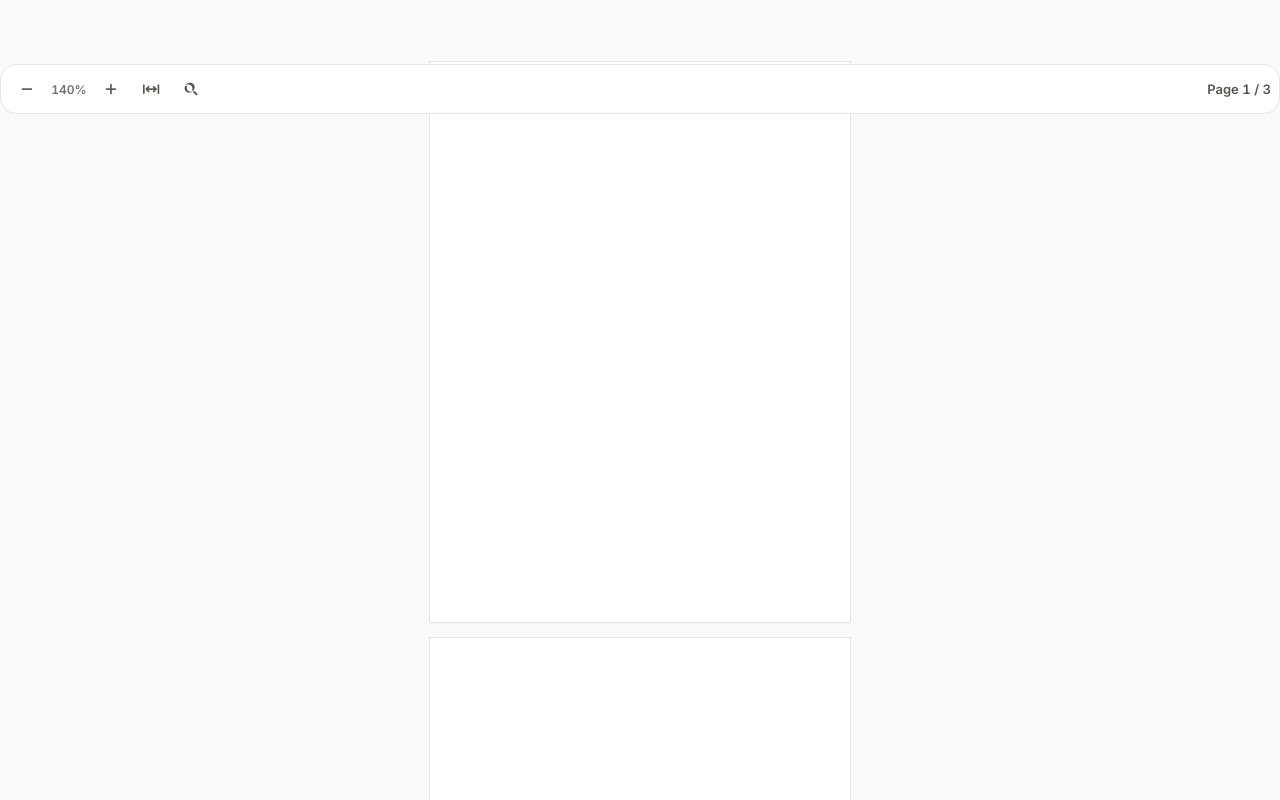
Test case: find in this paper (IR-353) › moves with the next and previous controls too
This screenshot has width=1280, height=800.
Expected: the text "Page 1 / 3" is shown, [1207,80,1271,98]
Click the button named "Find in this paper" at (191, 89), box [173,71,209,107]
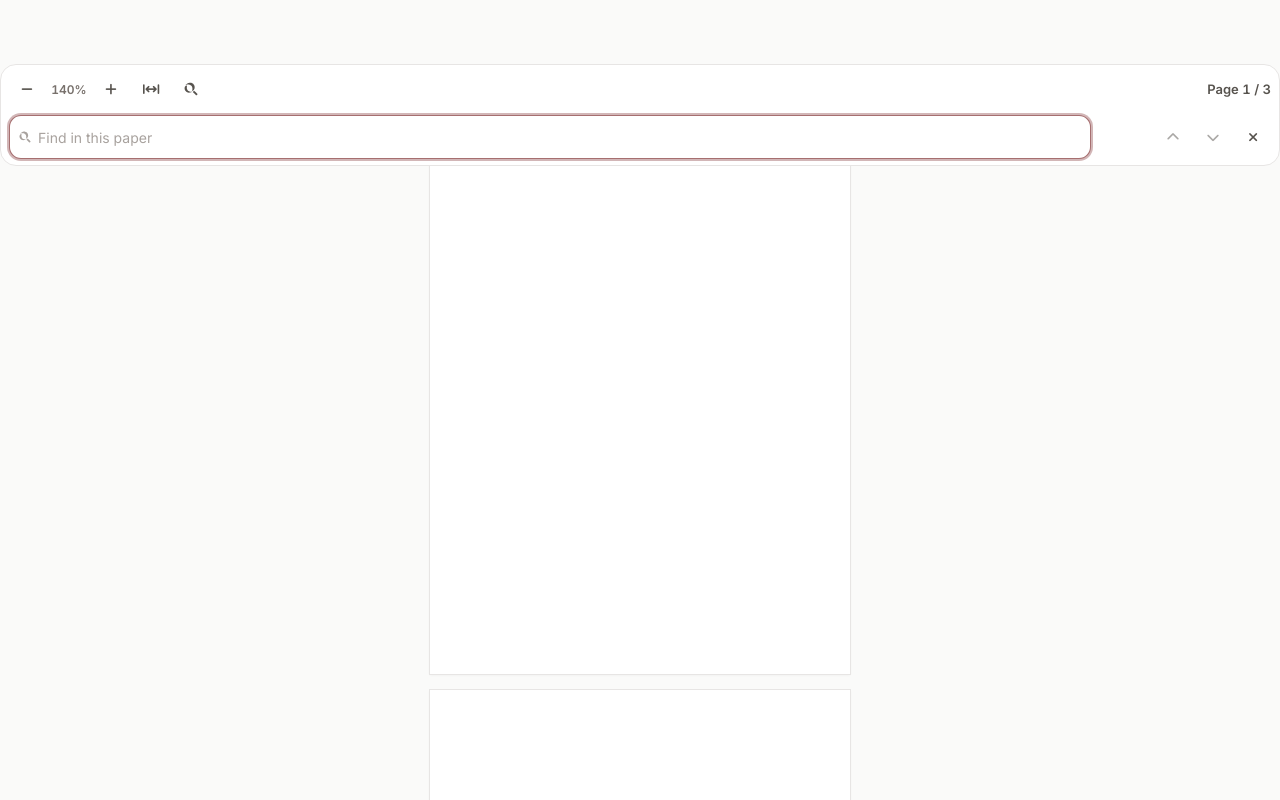
Type "robot" into the search field labelled "Find in this paper" at (550, 137), box [9,115,1091,159]
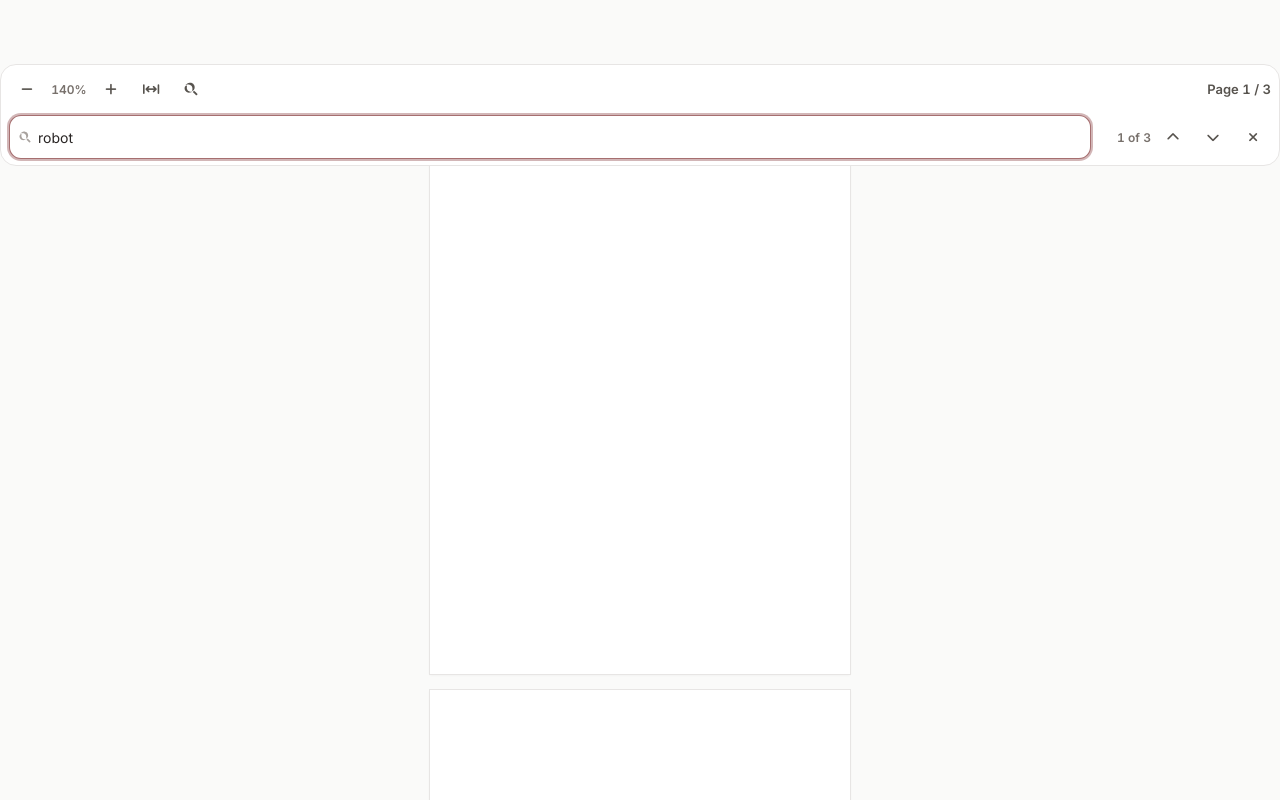
Result: the message reads "1 of 3" at [1117,130,1151,144]
Click the button named "Next match" at (1213, 137), box [1195,119,1231,155]
(page scrolled)
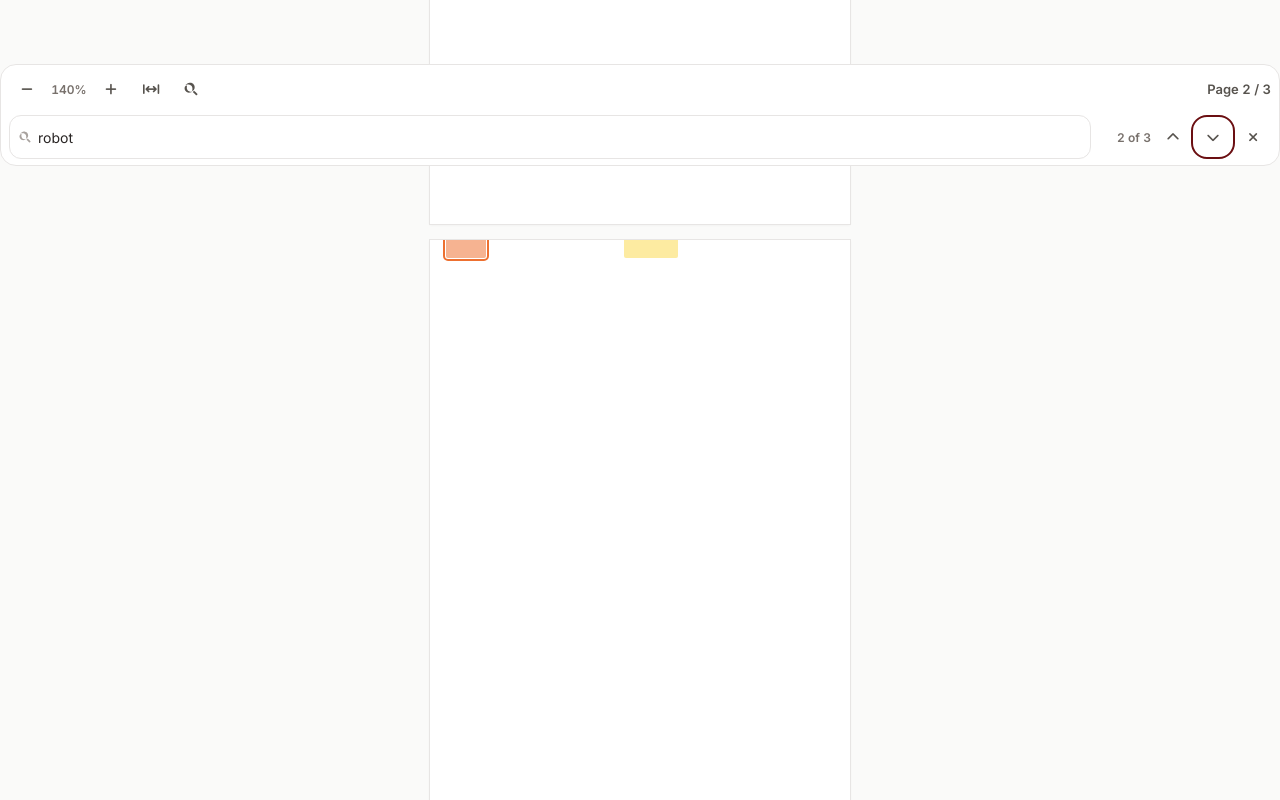
Result: the message reads "2 of 3" at [1117,130,1151,144]
Click the button named "Previous match" at (1173, 137), box [1155,119,1191,155]
(page scrolled)
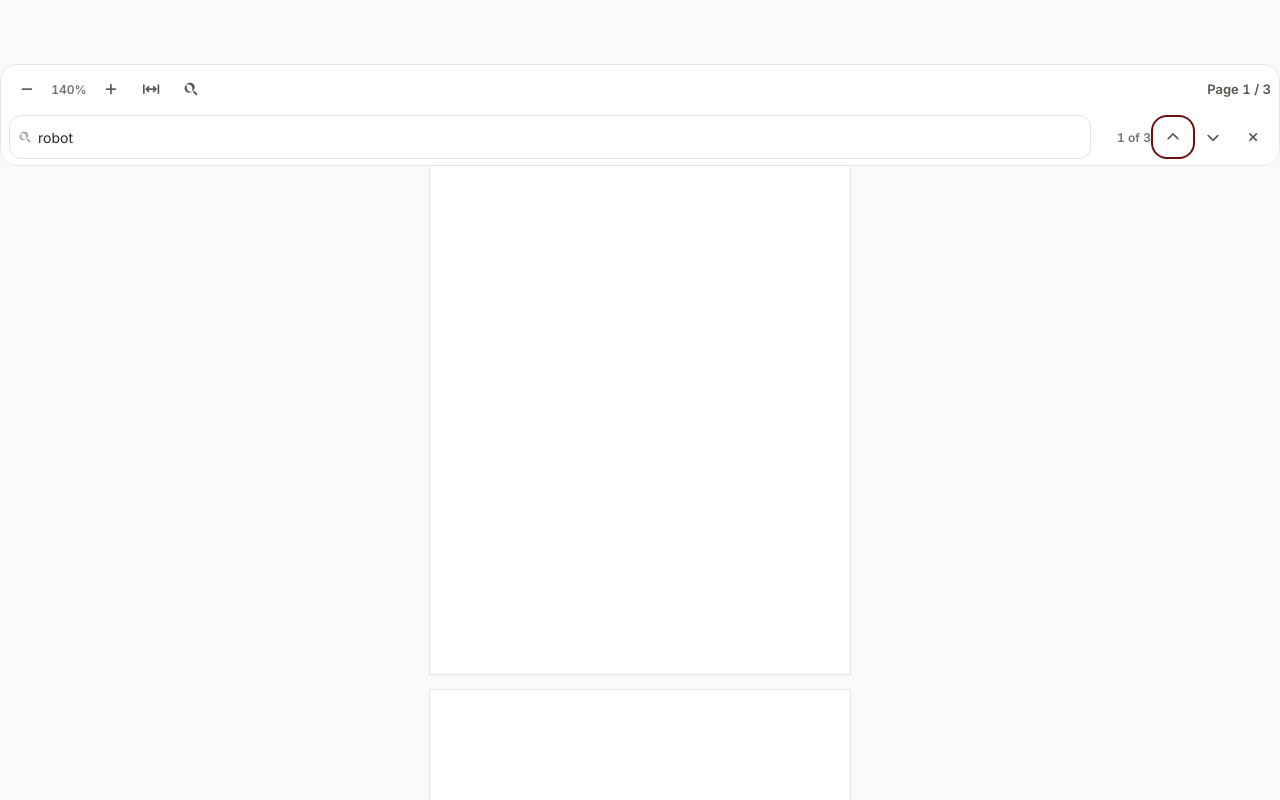
Result: the message reads "1 of 3" at [1117,130,1151,144]
